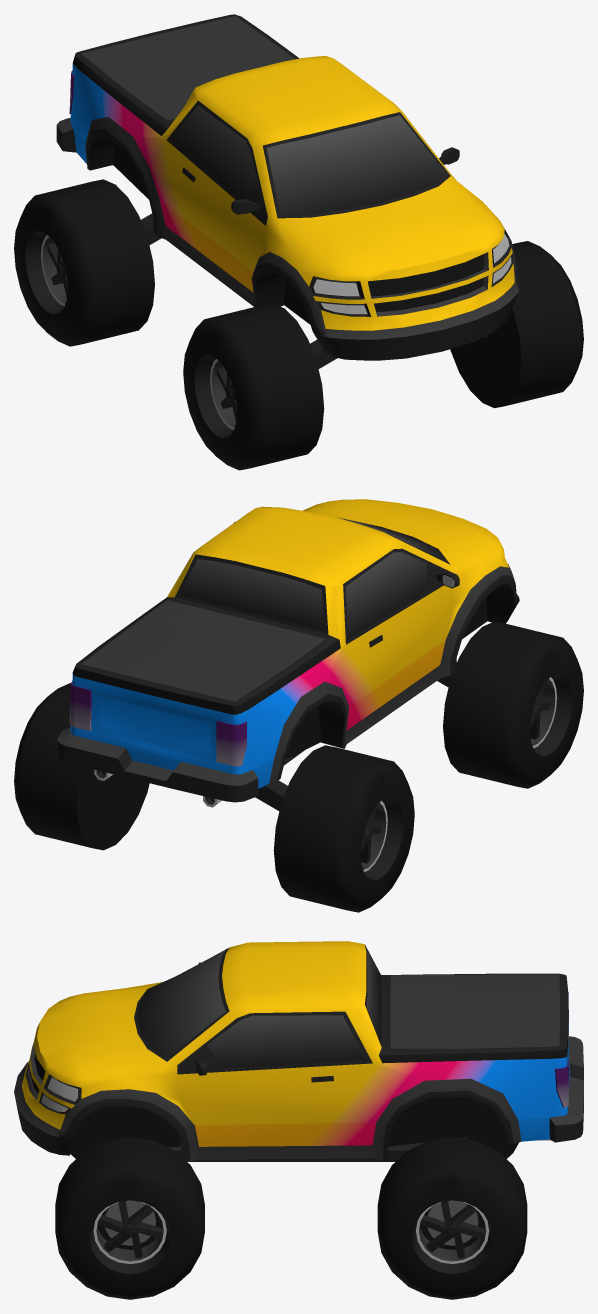
Rendered from DaJiaoChe00.fbx.
3 renders of one model, top to bottom at view 1: azimuth 30°, elevation 25°; view 2: azimuth 150°, elevation 25°; view 3: azimuth 270°, elevation 25°, orthographic. The views are drawn at different scales.
Parts seen in each view (by area): view 1: DaJiaoChe00; view 2: DaJiaoChe00; view 3: DaJiaoChe00.
Boxes of the visible parts, <box> form: DaJiaoChe00: <box>14,14,583,470</box>; DaJiaoChe00: <box>14,499,583,912</box>; DaJiaoChe00: <box>14,941,583,1299</box>.
Bounding box in the file's own units: 491 × 384 × 759.
